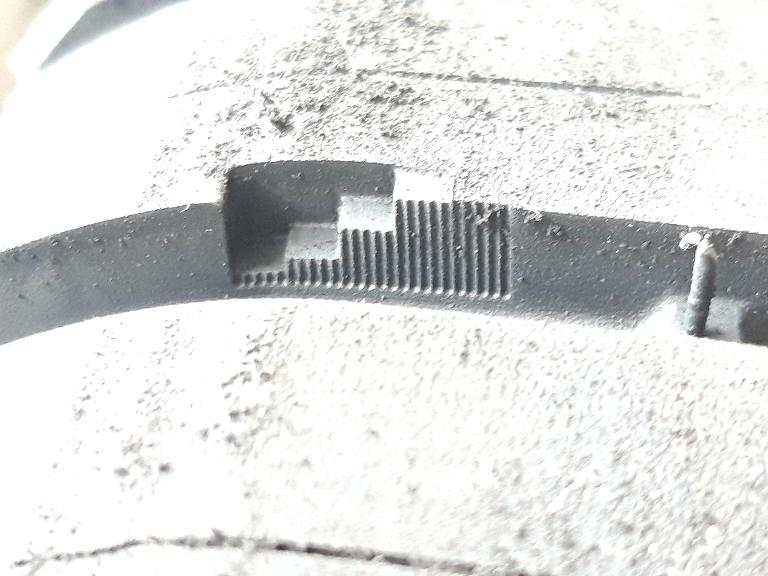temoin:75: (209, 151, 465, 303)
